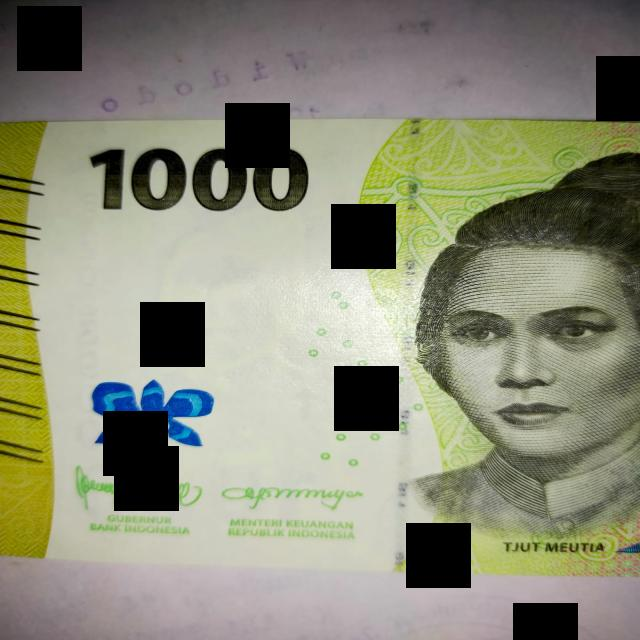seribu rupiah: (0, 120, 638, 575)
